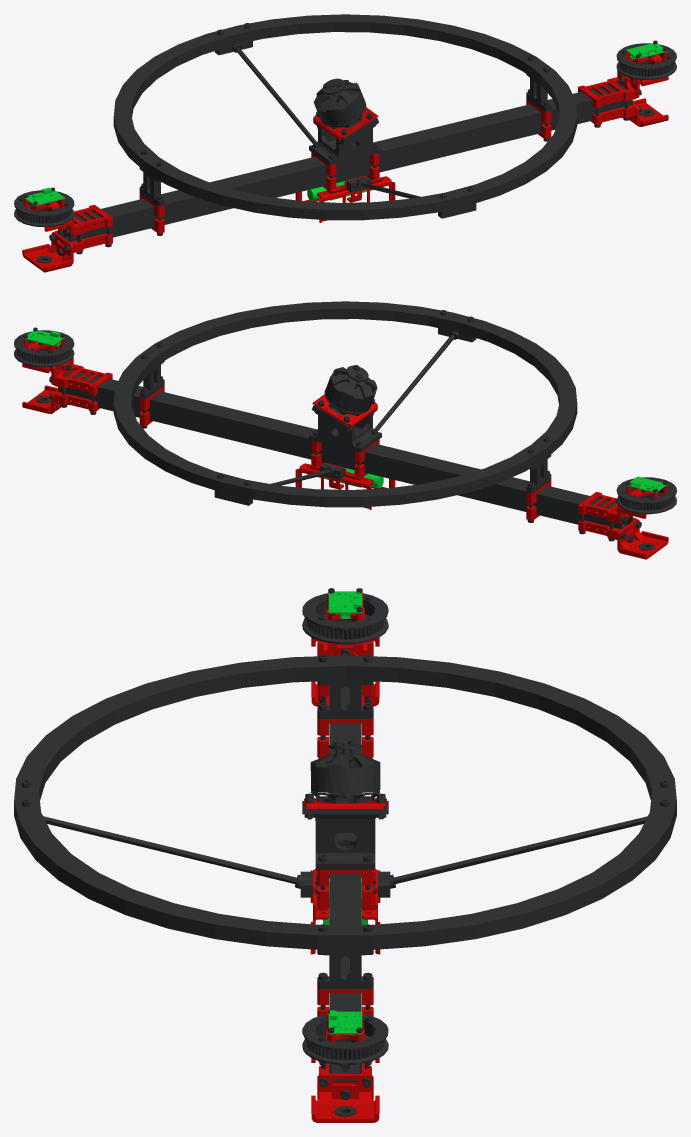
File: tilt_20deg_link2.dae
3 renders of one model, top to bottom at view 1: azimuth 30°, elevation 25°; view 2: azimuth 150°, elevation 25°; view 3: azimuth 270°, elevation 25°, orthographic. The views are drawn at different scales.
Parts seen in each view (by area): view 1: tilt_link2_black_part, tilt_link2_red_part, link2_green_part; view 2: tilt_link2_black_part, tilt_link2_red_part, link2_green_part; view 3: tilt_link2_black_part, tilt_link2_red_part, link2_green_part.
Boxes of the visible parts, x1,y1,x2,y2 form: tilt_link2_black_part: (14, 14, 676, 263); tilt_link2_red_part: (22, 51, 668, 272); link2_green_part: (23, 43, 667, 205); tilt_link2_black_part: (14, 301, 676, 550); tilt_link2_red_part: (22, 338, 668, 559); link2_green_part: (23, 330, 667, 492); tilt_link2_black_part: (14, 588, 676, 1116); tilt_link2_red_part: (304, 593, 386, 1122); link2_green_part: (323, 591, 367, 1034).
Size of the model in its own units: 0.6521 by 0.3997 by 0.1205.
